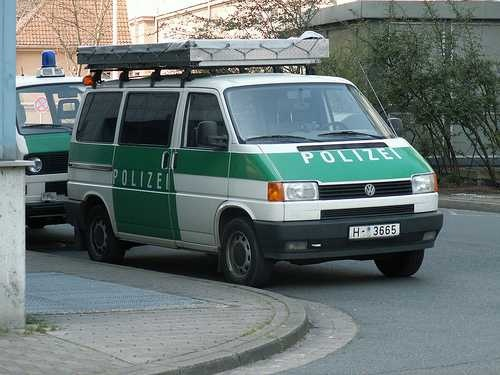Police Van: (66, 23, 459, 289)
